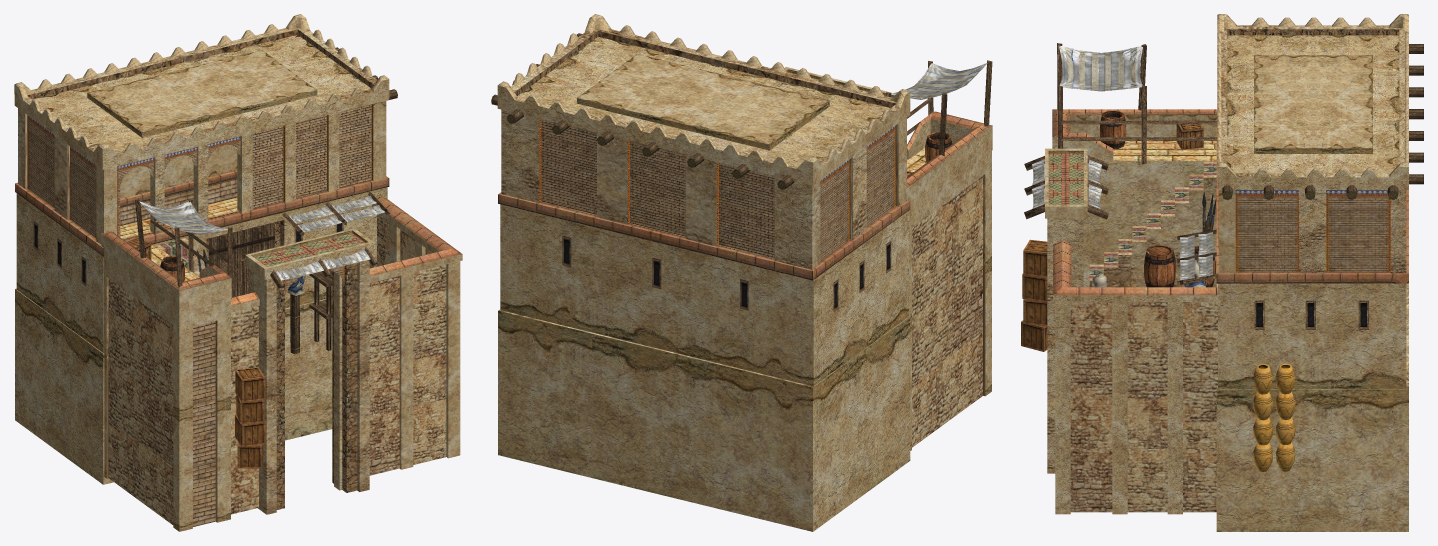
File: pers_barracks.glb
3 renders of one model, left to right at view 1: azimuth 30°, elevation 25°; view 2: azimuth 150°, elevation 25°; view 3: azimuth 270°, elevation 25°, orthographic. The views are drawn at different scales.
Bounding box in the file's own units: 17.9 × 19.01 × 18.92.
1 material, 1 textured.
